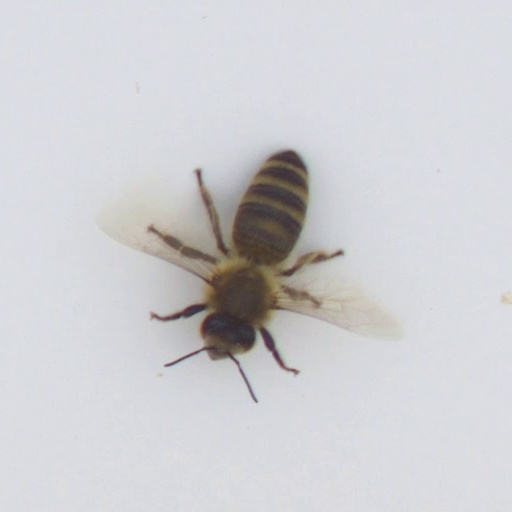Bee: (183, 133, 334, 375)
Thorax: (202, 258, 277, 325)
